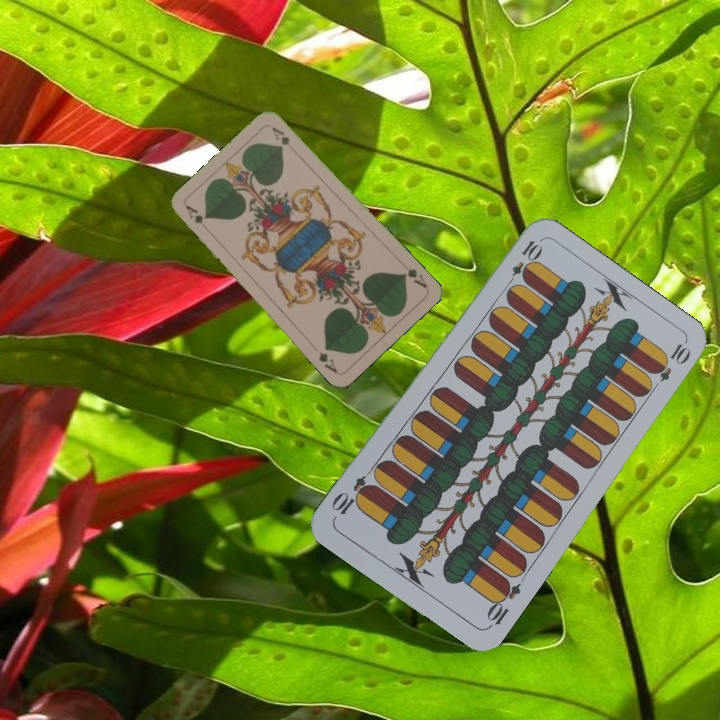E10: (502, 236, 544, 291), (482, 575, 523, 631)
GA: (182, 201, 213, 236), (398, 264, 430, 291)
